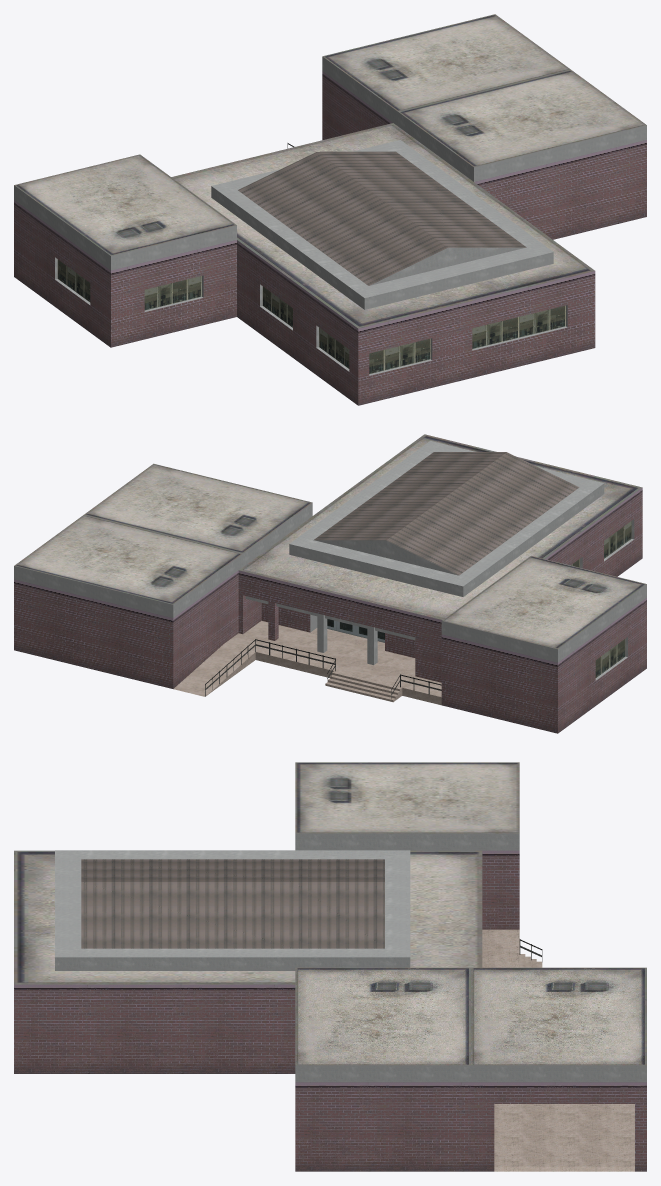
Rendered from des_stmedicentre_.obj.
3 renders of one model, top to bottom at view 1: azimuth 30°, elevation 25°; view 2: azimuth 150°, elevation 25°; view 3: azimuth 270°, elevation 25°, orthographic. The views are drawn at different scales.
Parts seen in each view (by area): view 1: des_stmedicentre_; view 2: des_stmedicentre_; view 3: des_stmedicentre_.
Boxes of the visible parts, x1,y1,x2,y2 form: des_stmedicentre_: (14, 14, 646, 405); des_stmedicentre_: (14, 434, 646, 733); des_stmedicentre_: (14, 762, 646, 1171).
Size of the model in its own units: 38.35 by 7.37 by 33.84.
8 materials, 8 textured.
